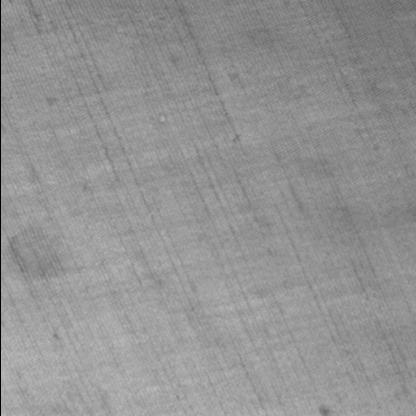oil spot: (5, 226, 70, 276)
